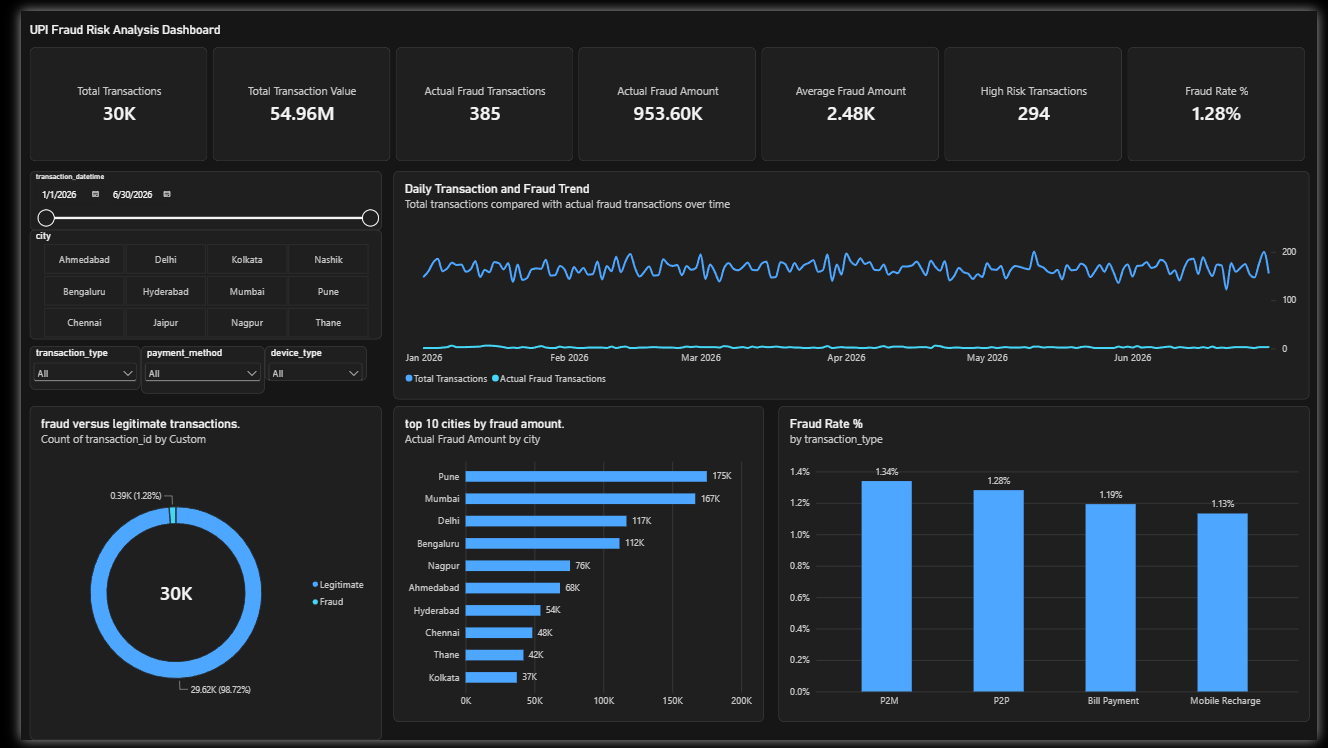

What the dashboard file says about the page in this screenshot:
{"tool":"powerbi","page":{"name":"Executive overview","canvas":[1920,1080],"ordinal":0},"visuals":[{"type":"cardVisual","fields":{"Data":["UPI Transactions.Total Transactions","UPI Transactions.Total Transaction Value","UPI Transactions.Fraud Transactions","UPI Transactions.Fraud Rate %","UPI Transactions.Fraud Amount","UPI Transactions.Average Fraud Amount","UPI Transactions.High Risk Transactions"]},"box":[12.9,16.6,1895.7,205.8],"z":0},{"type":"lineChart","title":"transactions and fraud transactions by date.","fields":{"Category":["UPI Transactions.transaction_datetime.Variation.Date Hierarchy.Year","UPI Transactions.transaction_datetime.Variation.Date Hierarchy.Quarter","UPI Transactions.transaction_datetime.Variation.Date Hierarchy.Month","UPI Transactions.transaction_datetime.Variation.Date Hierarchy.Day"],"Y":["CountNonNull(UPI Transactions.transaction_id)"],"Y2":["UPI Transactions.Total Transactions","UPI Transactions.Fraud Transactions"]},"box":[552.2,236.9,1356.7,338.2],"z":1},{"type":"donutChart","title":"fraud versus legitimate transactions.","fields":{"Category":["UPI Transactions.Custom"],"Y":["CountNonNull(UPI Transactions.transaction_id)"]},"box":[13.4,584.7,521.7,494.9],"z":2},{"type":"columnChart","fields":{"Category":["UPI Transactions.transaction_type"],"Y":["UPI Transactions.Fraud Rate %"]},"box":[1121.7,584.7,787.3,468.2],"z":3},{"type":"barChart","title":"top 10 cities by fraud amount.","fields":{"Category":["UPI Transactions.city"],"Y":["UPI Transactions.Fraud Amount"]},"box":[552.2,584.7,548.4,468.2],"z":4},{"type":"slicer","fields":{"Values":["UPI Transactions.transaction_datetime"]},"box":[13.4,236.9,521.7,87.9],"z":5},{"type":"slicer","fields":{"Values":["UPI Transactions.city"]},"box":[13.4,324.8,521.7,162.4],"z":6},{"type":"slicer","fields":{"Values":["UPI Transactions.transaction_type"]},"box":[13.4,496.8,164.3,65],"z":7},{"type":"slicer","fields":{"Values":["UPI Transactions.payment_method"]},"box":[177.7,496.8,183.4,70.7],"z":8},{"type":"slicer","fields":{"Values":["UPI Transactions.device_type"]},"box":[361.1,496.8,151,51.6],"z":9}]}

Visuals, with their boxes in screenshot pixels (x1, y1, x2, y2), scaled from the page's 1920x1080 canvas onto the 1328x748 screenshot:
cardVisual - UPI Transactions.Total Transactions x UPI Transactions.Total Transaction Value: box=[9, 11, 1320, 154]
"transactions and fraud transactions by date." lineChart: box=[382, 164, 1320, 398]
"fraud versus legitimate transactions." donutChart: box=[9, 405, 370, 747]
columnChart - UPI Transactions.transaction_type x UPI Transactions.Fraud Rate %: box=[776, 405, 1320, 729]
"top 10 cities by fraud amount." barChart: box=[382, 405, 761, 729]
slicer - UPI Transactions.transaction_datetime: box=[9, 164, 370, 225]
slicer - UPI Transactions.city: box=[9, 225, 370, 337]
slicer - UPI Transactions.transaction_type: box=[9, 344, 123, 389]
slicer - UPI Transactions.payment_method: box=[123, 344, 250, 393]
slicer - UPI Transactions.device_type: box=[250, 344, 354, 380]
